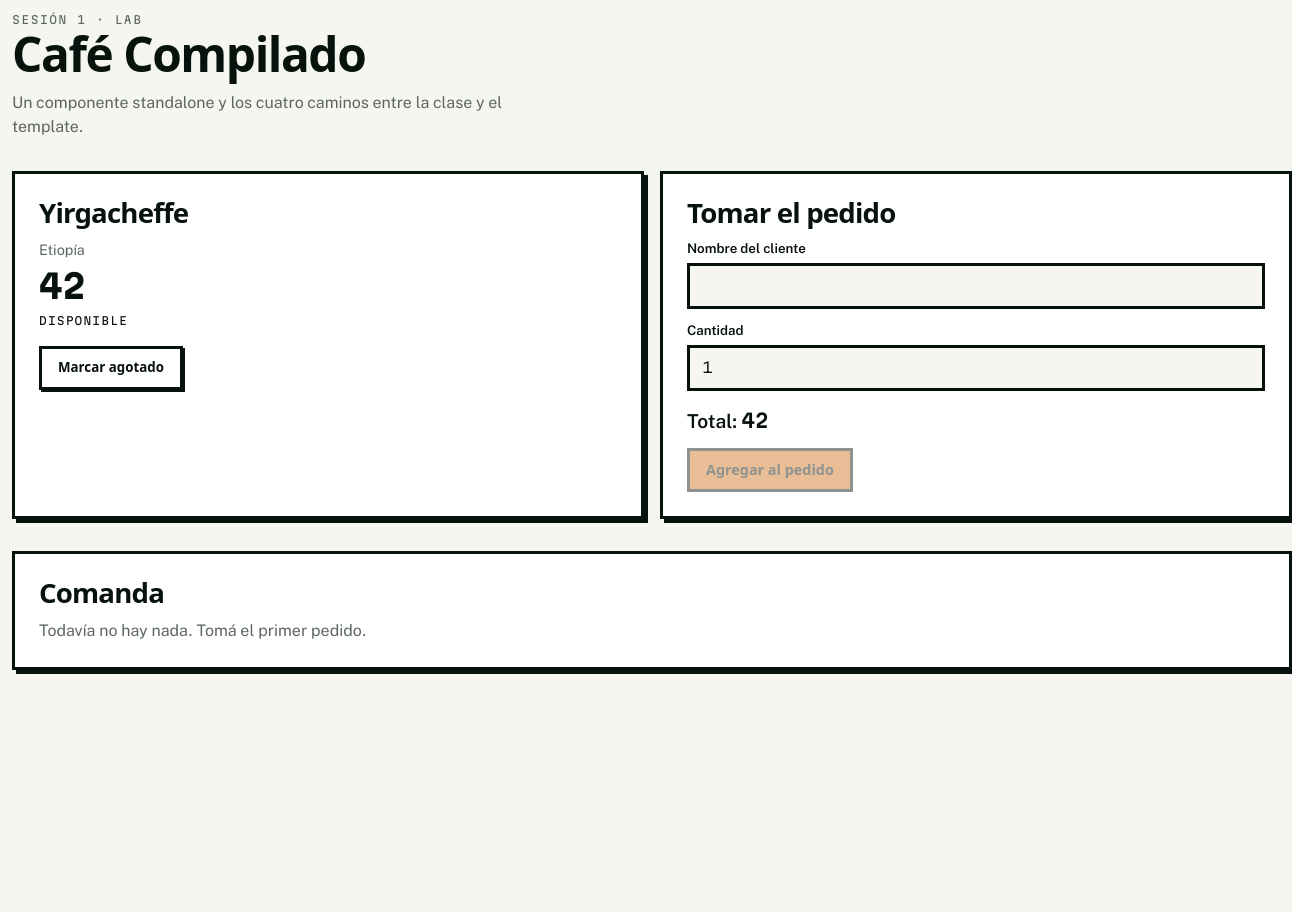
Test: S01Component · los cuatro bindings › agregar suma una línea a la comanda y limpia el formulario
Type "Bruno" into the field named "customer" at point(976, 286), box [687,263,1265,309]
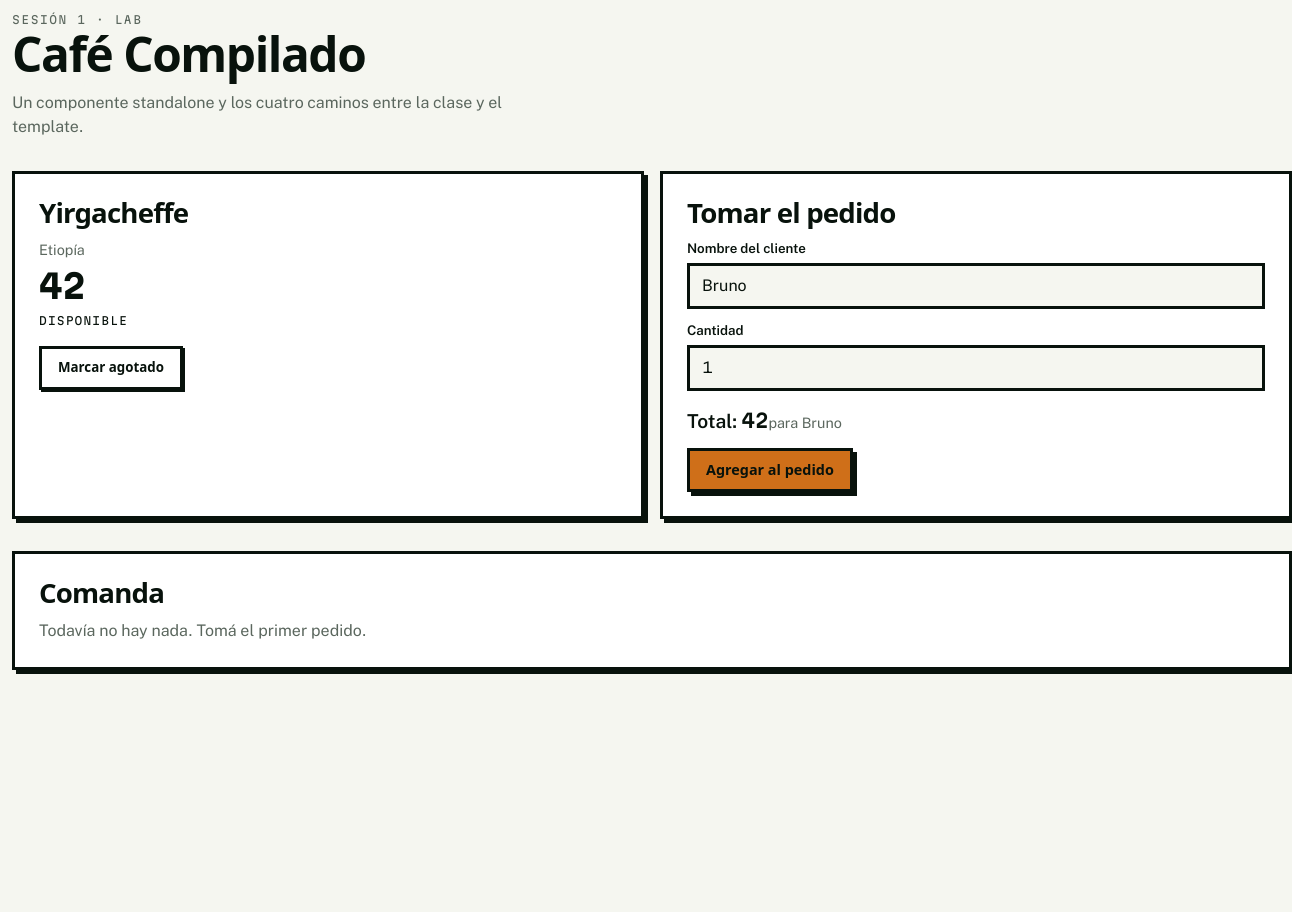
Click the button "Agregar al pedido" at point(770, 470), box [687,448,853,492]
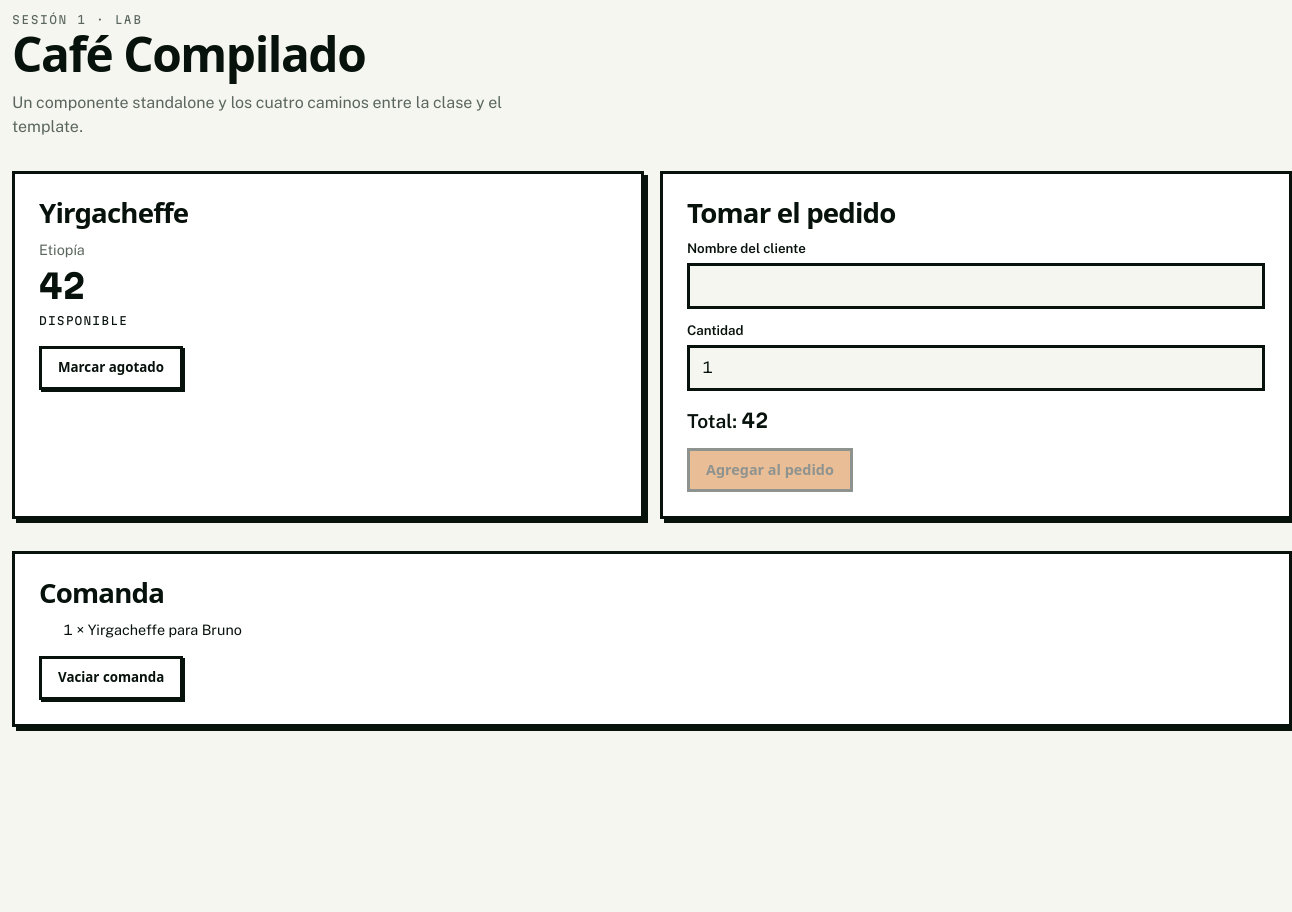
expect the number of list items is 1: met, box [63,621,242,638]
expect the list item "1 × Yirgacheffe para Bruno" is shown: met, box [63,621,242,638]
